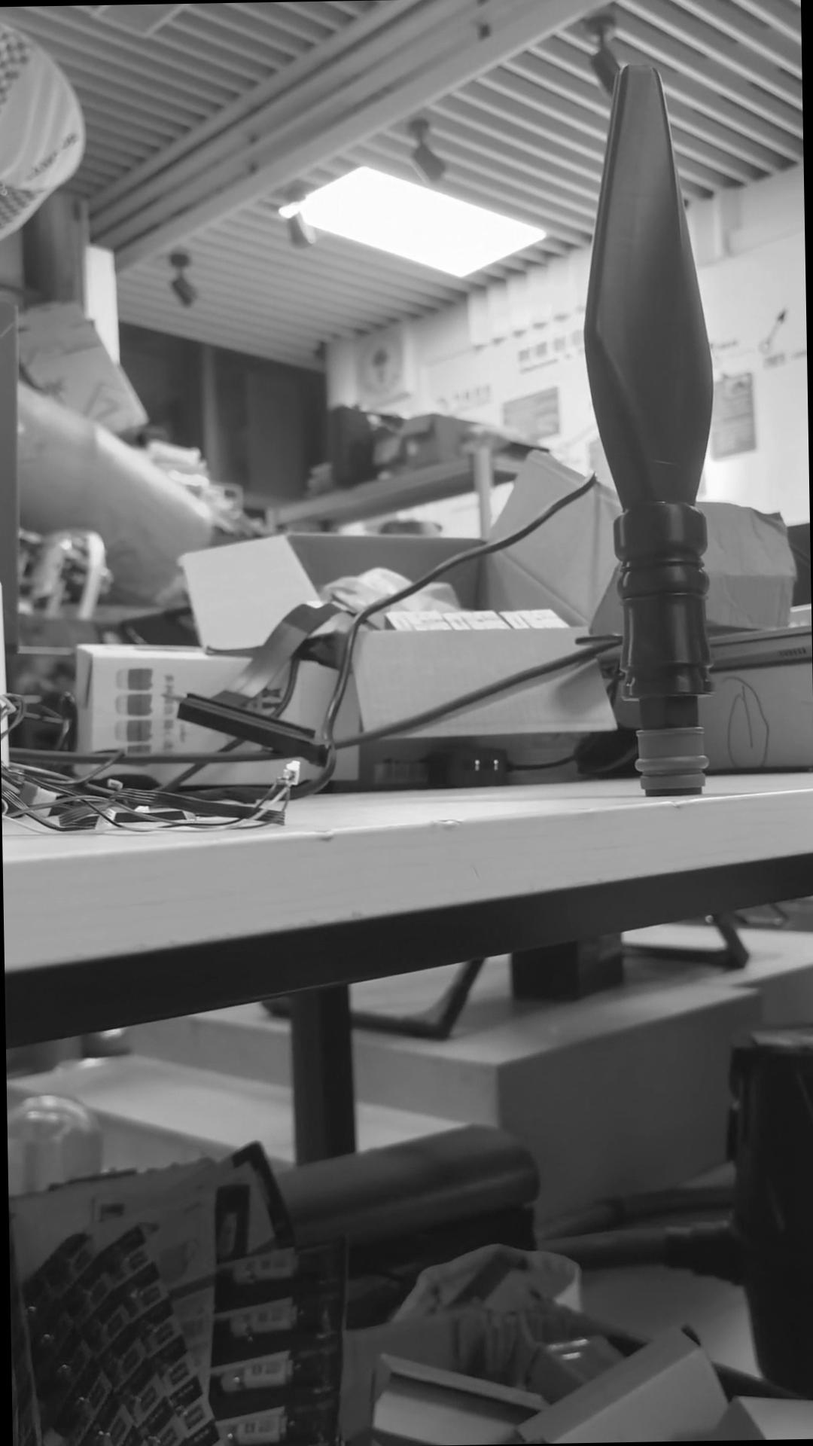base: (632, 716, 715, 810)
